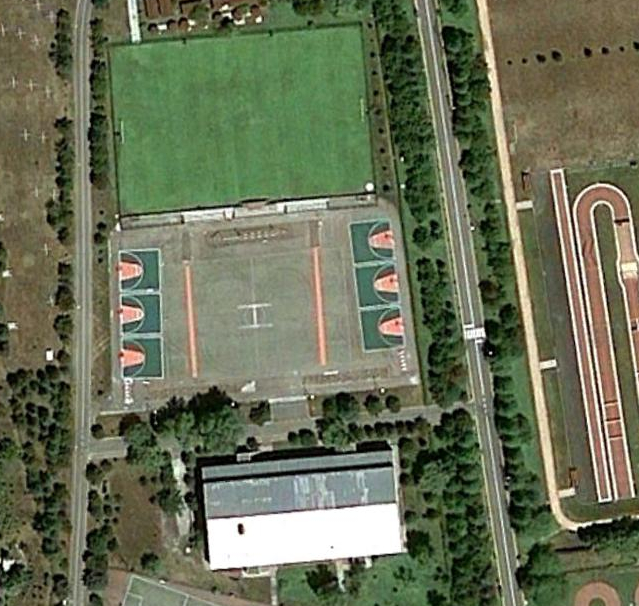heliport: (230, 298, 277, 336)
